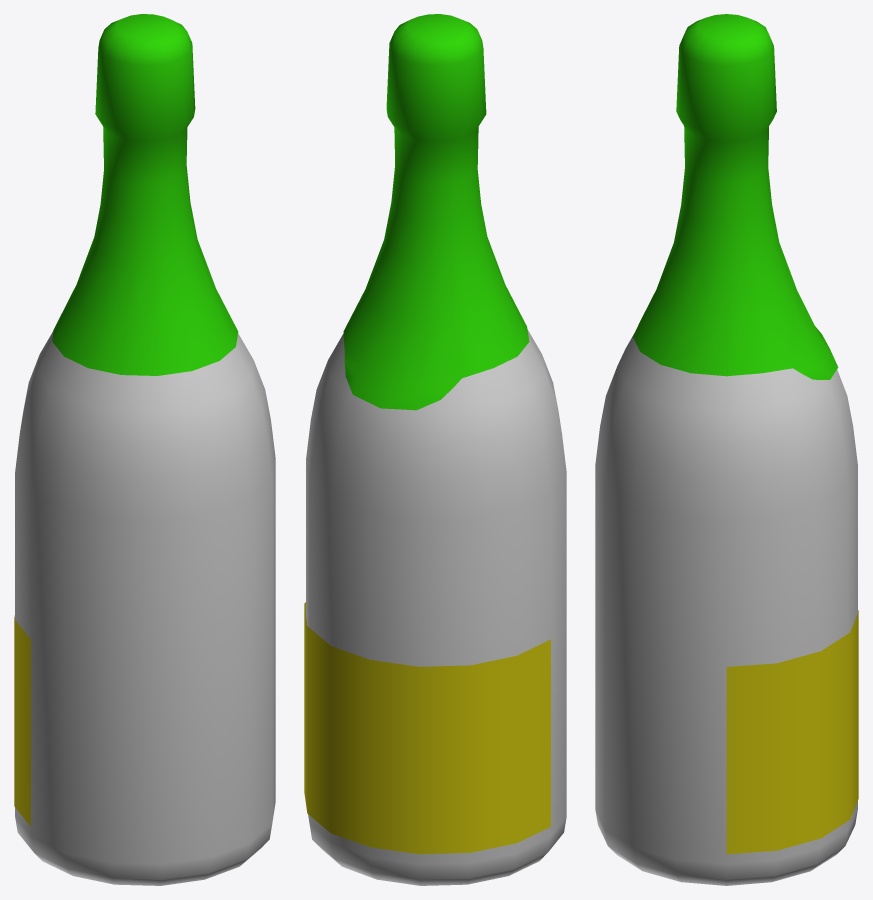
Rendered from BHP_MOD_BOT_Champagne.fbx.
3 renders of one model, left to right at view 1: azimuth 30°, elevation 25°; view 2: azimuth 150°, elevation 25°; view 3: azimuth 270°, elevation 25°, orthographic.
Parts seen in each view (by area): view 1: BHP_MOD_Bottle_Champagne; view 2: BHP_MOD_Bottle_Champagne; view 3: BHP_MOD_Bottle_Champagne.
Part boxes in pixels (left/top/right/bottom): BHP_MOD_Bottle_Champagne: left=14, top=14, right=275, bottom=885; BHP_MOD_Bottle_Champagne: left=304, top=14, right=566, bottom=885; BHP_MOD_Bottle_Champagne: left=595, top=14, right=858, bottom=885.
Size of the model in its own units: 0.1291 by 0.4363 by 0.1287.
